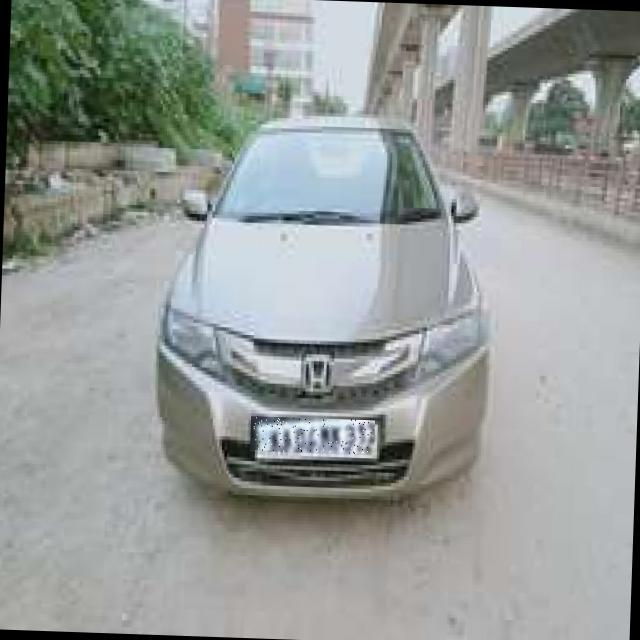Plate: (251, 418, 376, 456)
